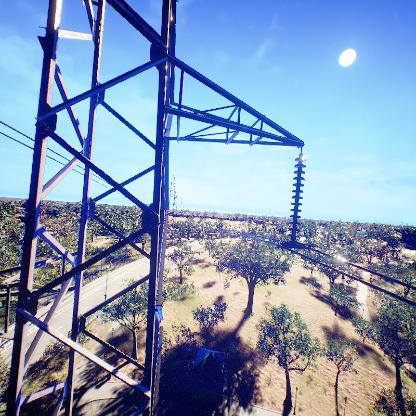insulator: (285, 154, 308, 240)
